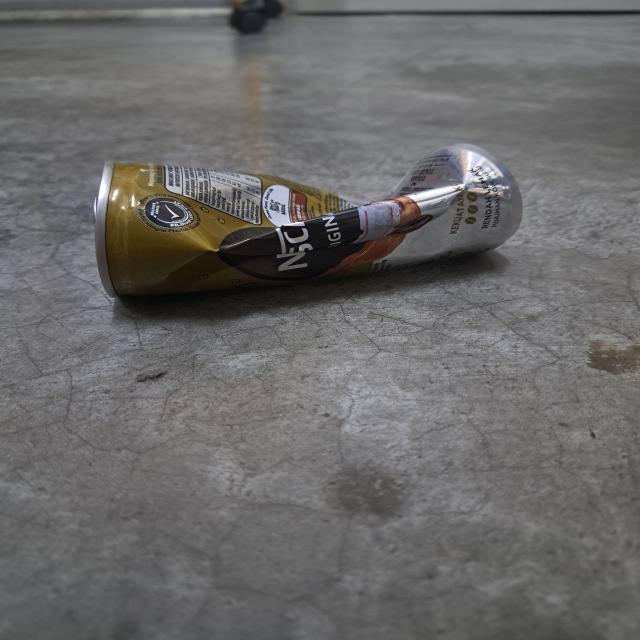can: (91, 139, 524, 298)
